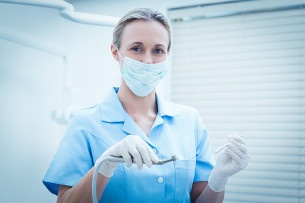Mask: (118, 39, 169, 91)
